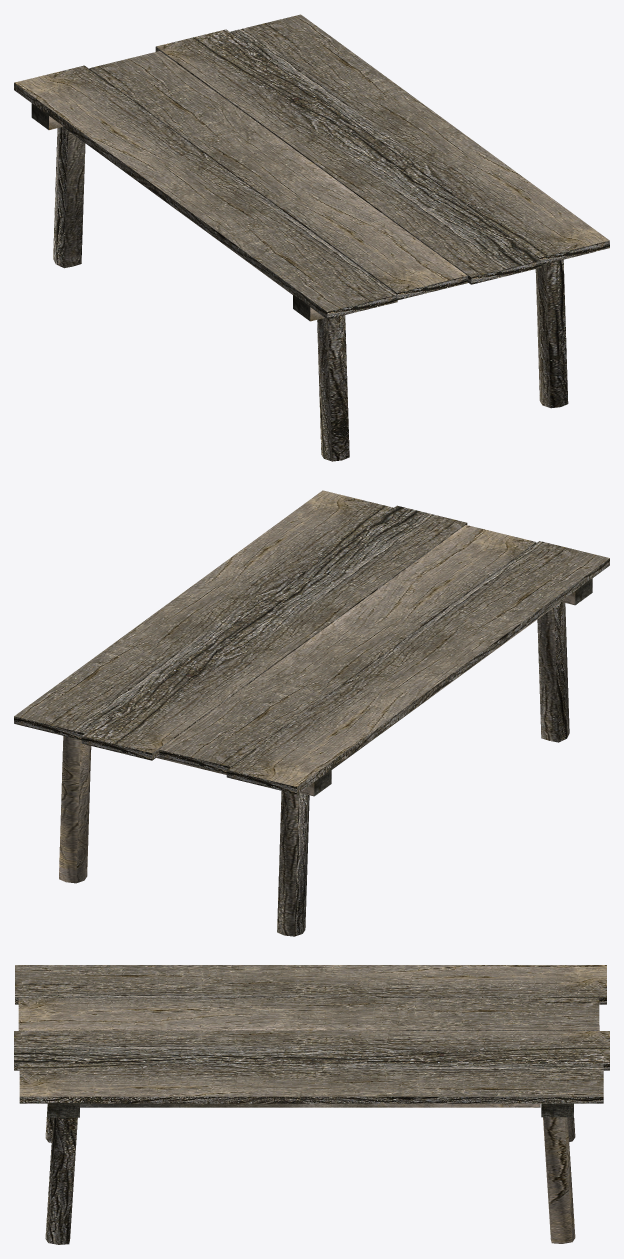
File: table.fbx
3 renders of one model, top to bottom at view 1: azimuth 30°, elevation 25°; view 2: azimuth 150°, elevation 25°; view 3: azimuth 270°, elevation 25°, orthographic. The views are drawn at different scales.
Parts seen in each view (by area): view 1: table; view 2: table; view 3: table.
Boxes of the visible parts, x1,y1,x2,y2 form: table: [14, 14, 609, 461]; table: [14, 490, 609, 936]; table: [14, 965, 609, 1244].
Bounding box in the file's own units: 1.65 × 0.9334 × 3.15.
